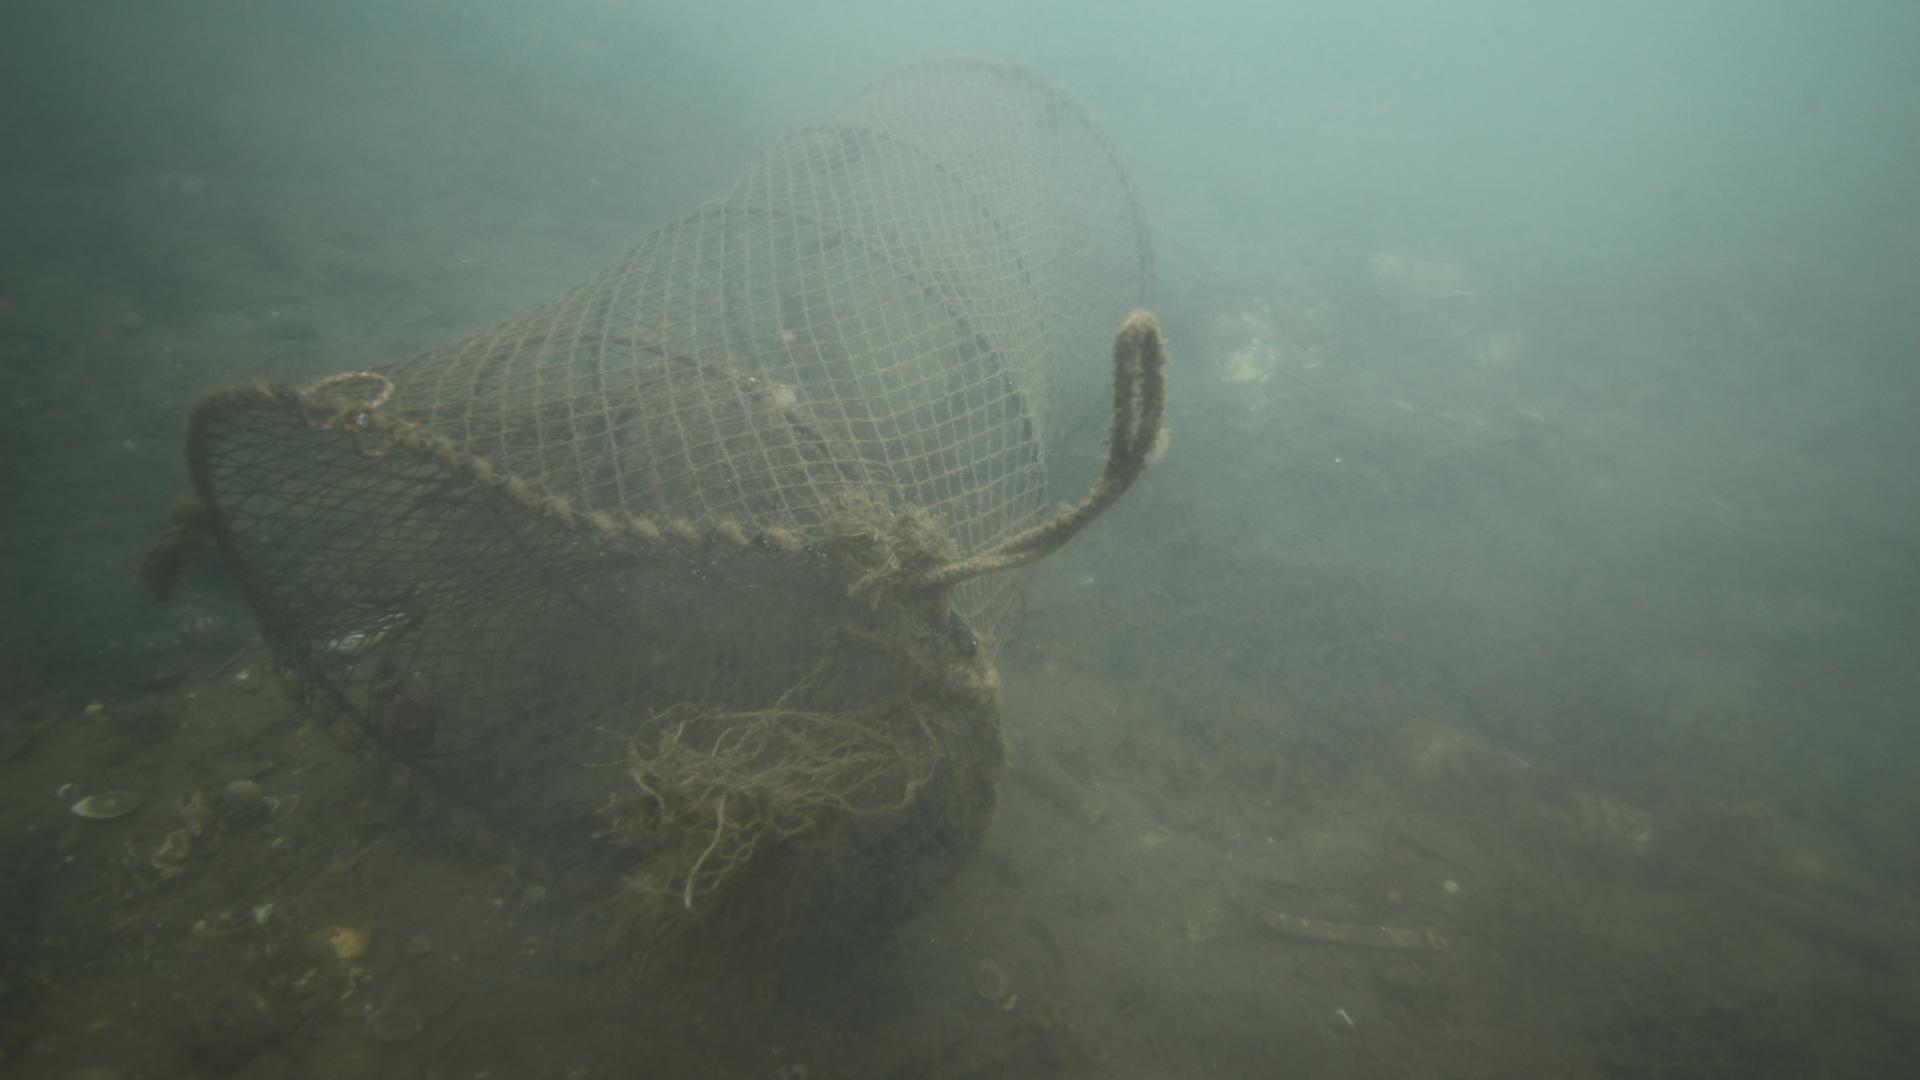bundle of ropes: (940, 305, 1168, 579)
spring fish trap: (179, 54, 1155, 963)
